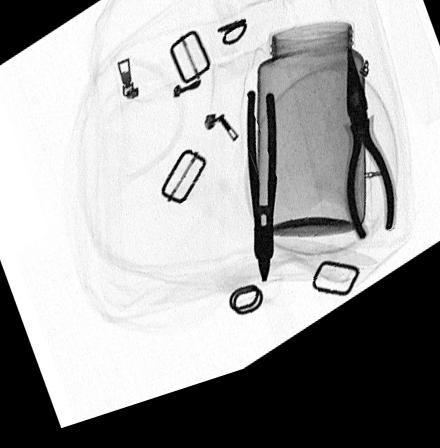Pliers: (343, 64, 398, 268), (244, 102, 279, 300)
